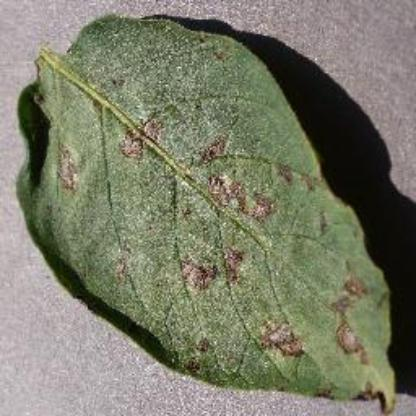Early-Blight: (16, 11, 398, 412)
